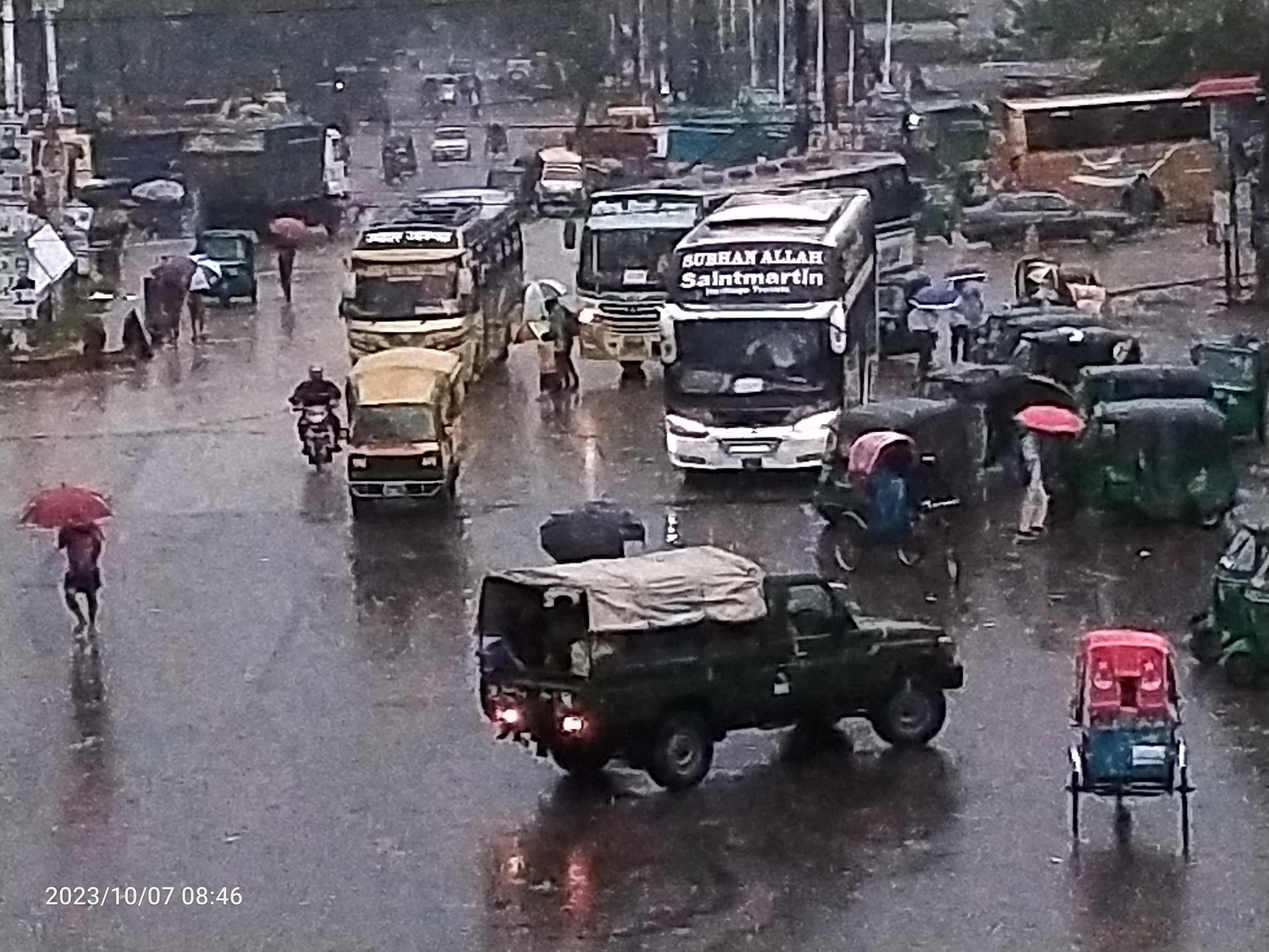Bike: (254, 343, 363, 488)
Bus: (545, 151, 944, 372), (644, 166, 904, 500), (983, 78, 1269, 251), (332, 172, 539, 411)
Car: (1042, 600, 1251, 918), (329, 326, 500, 544), (804, 403, 988, 598), (947, 175, 1159, 267), (530, 137, 595, 222), (417, 115, 480, 174)
Truck: (424, 506, 1023, 837), (166, 101, 359, 239)
